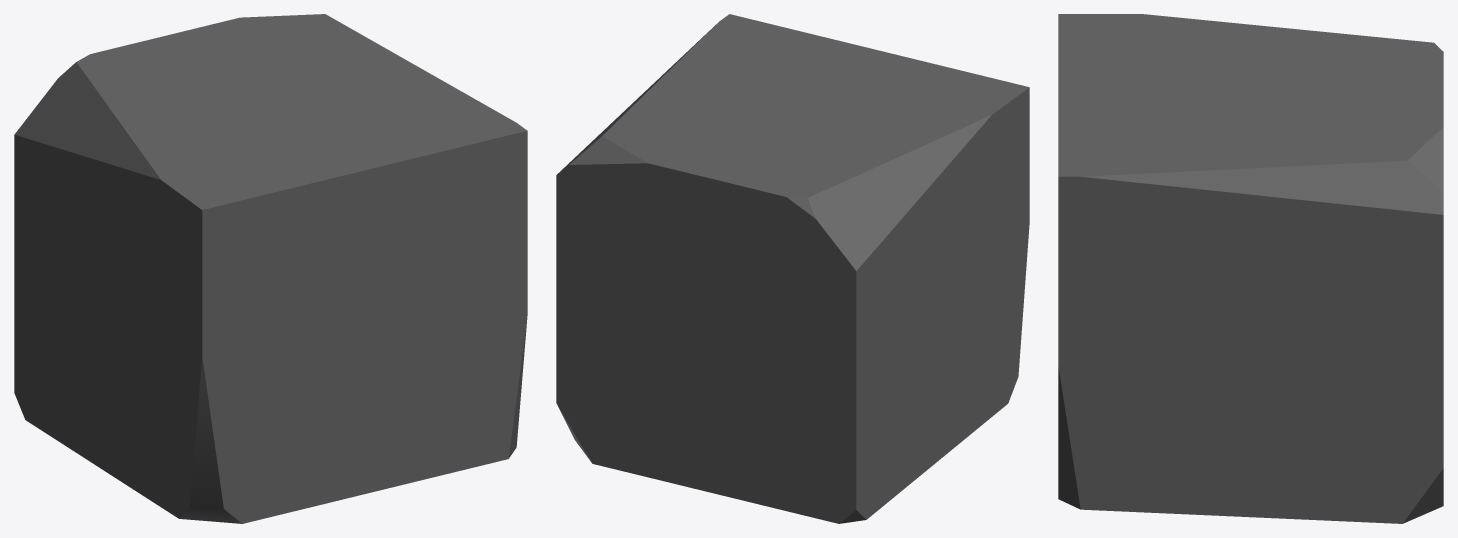
3 renders of one model, left to right at view 1: azimuth 30°, elevation 25°; view 2: azimuth 150°, elevation 25°; view 3: azimuth 270°, elevation 25°, orthographic. The views are drawn at different scales.
Visible parts, largest first — view 1: Cube_03_LOD0; view 2: Cube_03_LOD0; view 3: Cube_03_LOD0.
Boxes of the visible parts, x1=… form: Cube_03_LOD0: x1=14, y1=14, x2=527, y2=523; Cube_03_LOD0: x1=556, y1=14, x2=1029, y2=523; Cube_03_LOD0: x1=1058, y1=14, x2=1443, y2=523.
Size of what is drawn, in the model's own units: 1 by 1 by 1.
